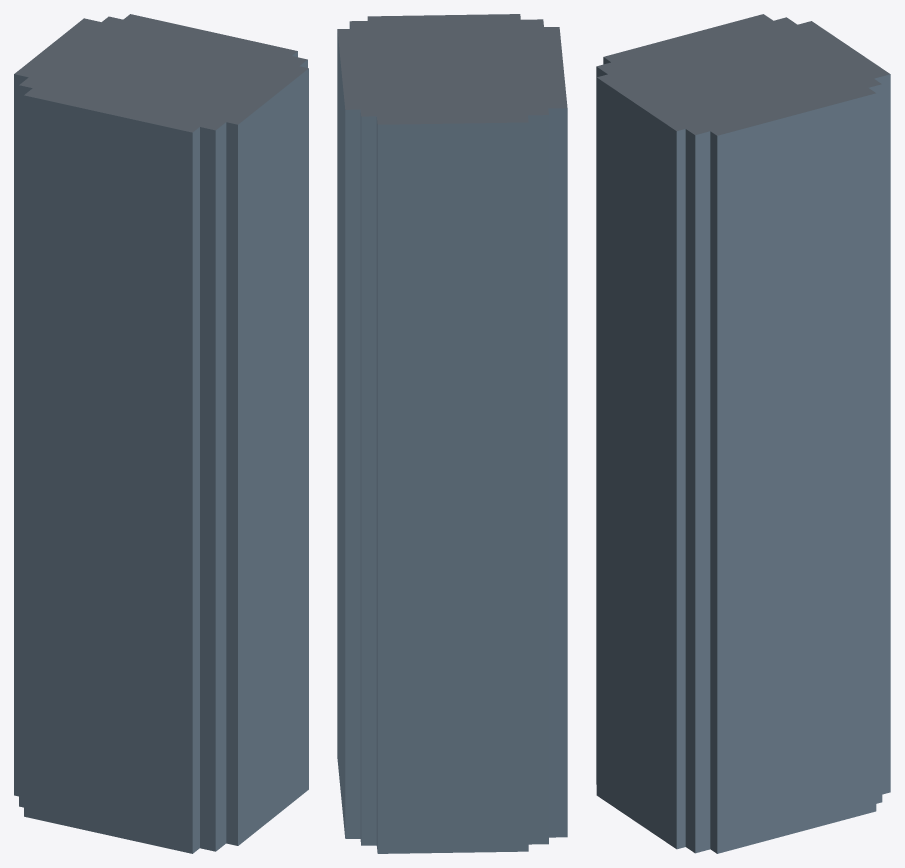
3 views of the same model, side by side, from view 1: azimuth 30°, elevation 25°; view 2: azimuth 150°, elevation 25°; view 3: azimuth 270°, elevation 25° (orthographic).
Visible parts, largest first — view 1: HP-w165909803; view 2: HP-w165909803; view 3: HP-w165909803.
Part boxes in pixels (box(x1,y1,x2,y2)): HP-w165909803: box(14, 14, 308, 853); HP-w165909803: box(337, 14, 567, 853); HP-w165909803: box(596, 14, 890, 853).
Bounding box in the file's own units: 55.32 × 152 × 56.47.
